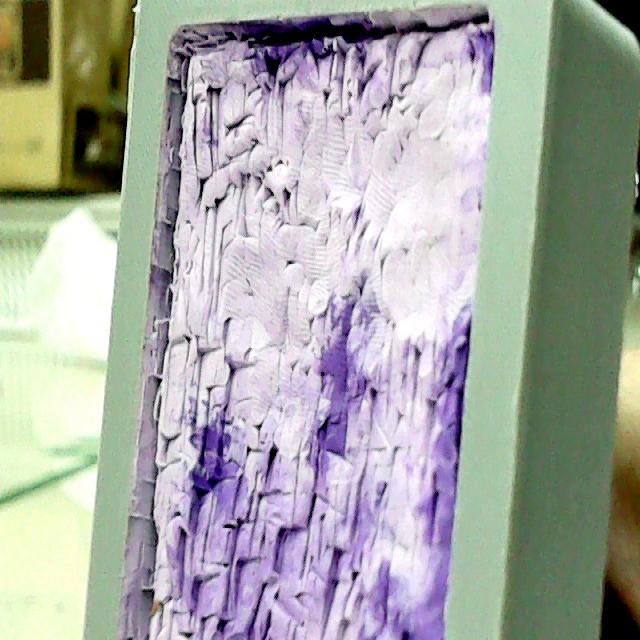block: (85, 0, 639, 640)
